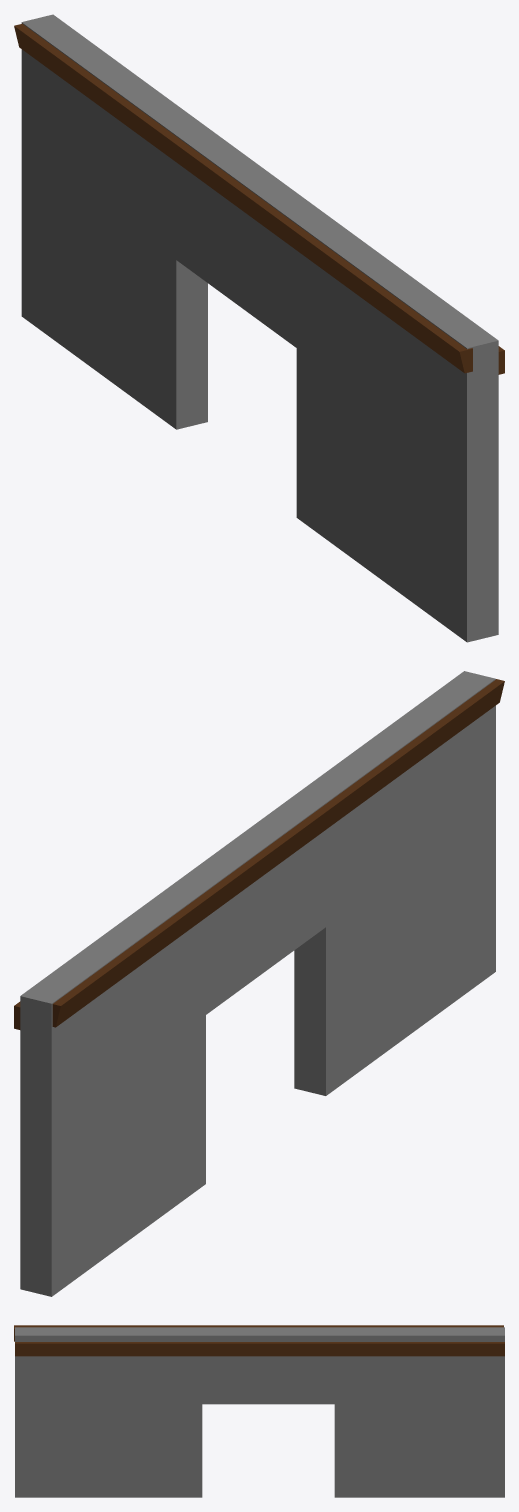
File: WallWithDoor.fbx
3 renders of one model, top to bottom at view 1: azimuth 30°, elevation 25°; view 2: azimuth 150°, elevation 25°; view 3: azimuth 270°, elevation 25°, orthographic. The views are drawn at different scales.
Parts seen in each view (by area): view 1: WallWithDoor; view 2: WallWithDoor; view 3: WallWithDoor.
Boxes of the visible parts, bbox=[...] form: WallWithDoor: bbox=[14, 14, 504, 642]; WallWithDoor: bbox=[14, 671, 504, 1296]; WallWithDoor: bbox=[14, 1325, 504, 1497].
Bounding box in the file's own units: 1.37 × 8.33 × 22.91.
